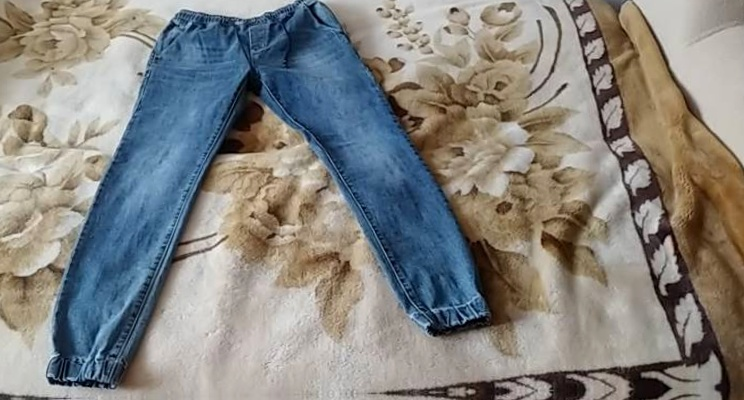Pants: (42, 0, 502, 383)
